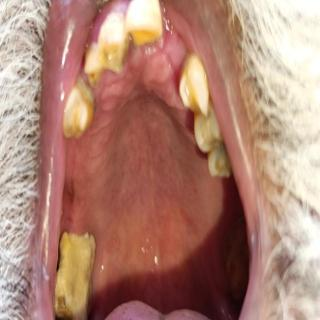calculus: (55, 227, 93, 320), (219, 229, 249, 294), (179, 59, 211, 115), (70, 73, 96, 136), (191, 104, 211, 164), (104, 36, 129, 79), (211, 139, 231, 179), (84, 38, 102, 74)
